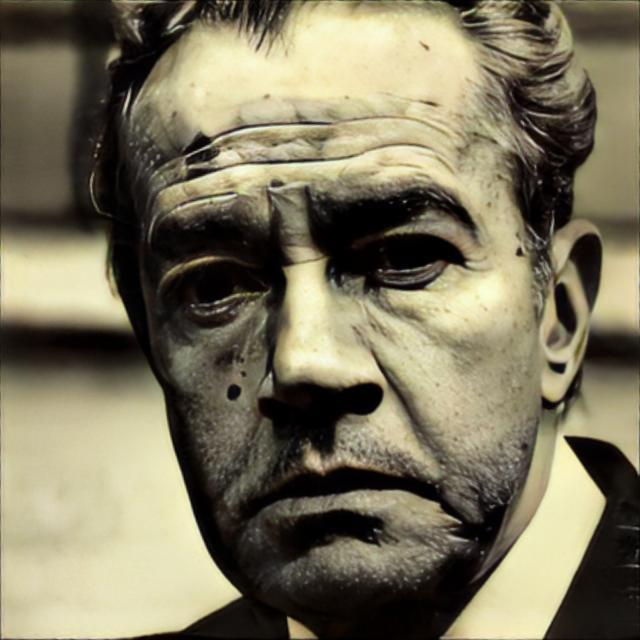anger: (132, 36, 560, 620)
